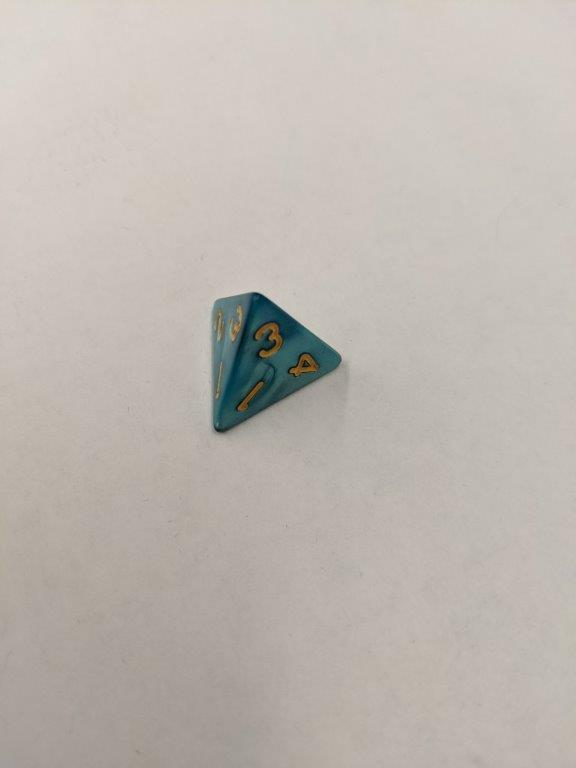d4-3: (202, 287, 345, 438)
